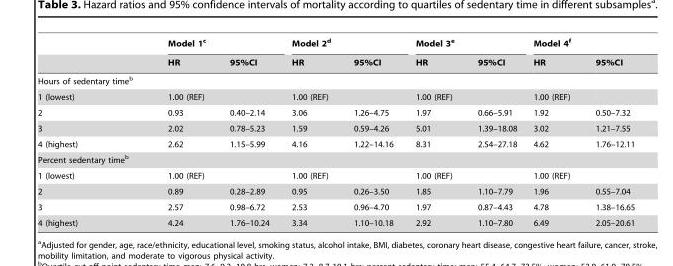table: (36, 37, 634, 227)
table column: (122, 37, 216, 227), (36, 37, 122, 227), (216, 37, 279, 227), (340, 37, 403, 227), (279, 37, 340, 227), (403, 37, 464, 227), (464, 37, 524, 227), (524, 37, 582, 227), (582, 37, 634, 227)
table column header: (36, 37, 634, 70)
table projected row header: (36, 70, 634, 88), (36, 151, 634, 167)
table row: (36, 52, 634, 70), (36, 70, 634, 88), (36, 88, 634, 104), (36, 104, 634, 120), (36, 120, 634, 136), (36, 151, 634, 167), (36, 167, 634, 183), (36, 183, 634, 199), (36, 37, 634, 52), (36, 136, 634, 151), (36, 199, 634, 214), (36, 214, 634, 227)
table spanning cell: (122, 37, 279, 52), (279, 37, 403, 52), (403, 37, 524, 52), (524, 37, 634, 52)
